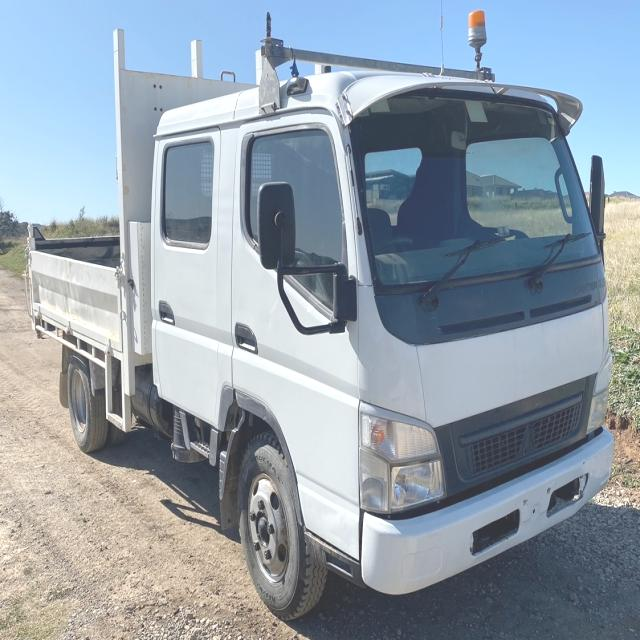truck: (21, 12, 614, 612)
